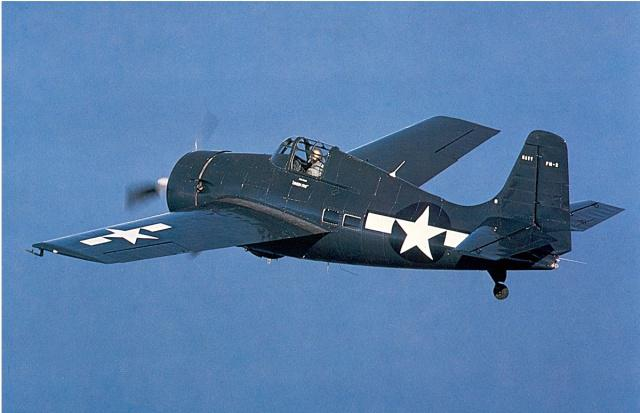airplane: (18, 107, 631, 288)
